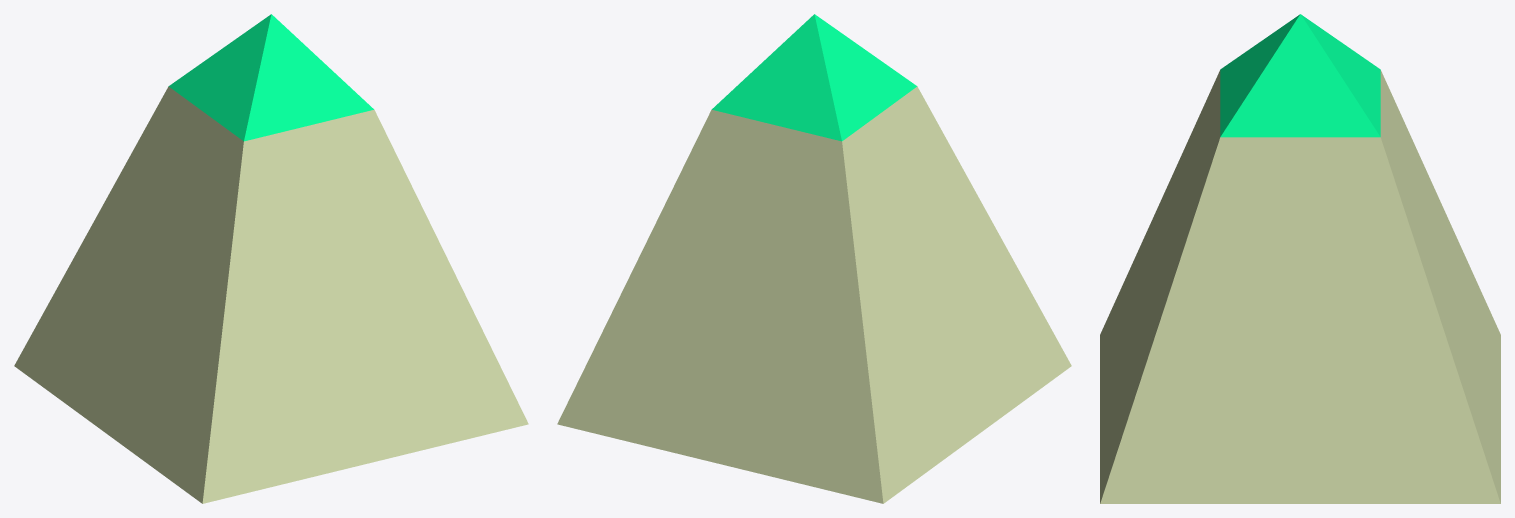
Rendered from TownHall.fbx.
The picture shows the model from 3 angles, left to right: view 1: azimuth 30°, elevation 25°; view 2: azimuth 150°, elevation 25°; view 3: azimuth 270°, elevation 25°; orthographic projection. The views are drawn at different scales.
Parts seen in each view (by area): view 1: TownHall; view 2: TownHall; view 3: TownHall.
Part boxes in pixels (x1,y1,x2,y2): TownHall: (14,14,528,503); TownHall: (557,14,1071,503); TownHall: (1100,14,1500,503).
Size of the model in its own units: 590 by 659 by 590.
